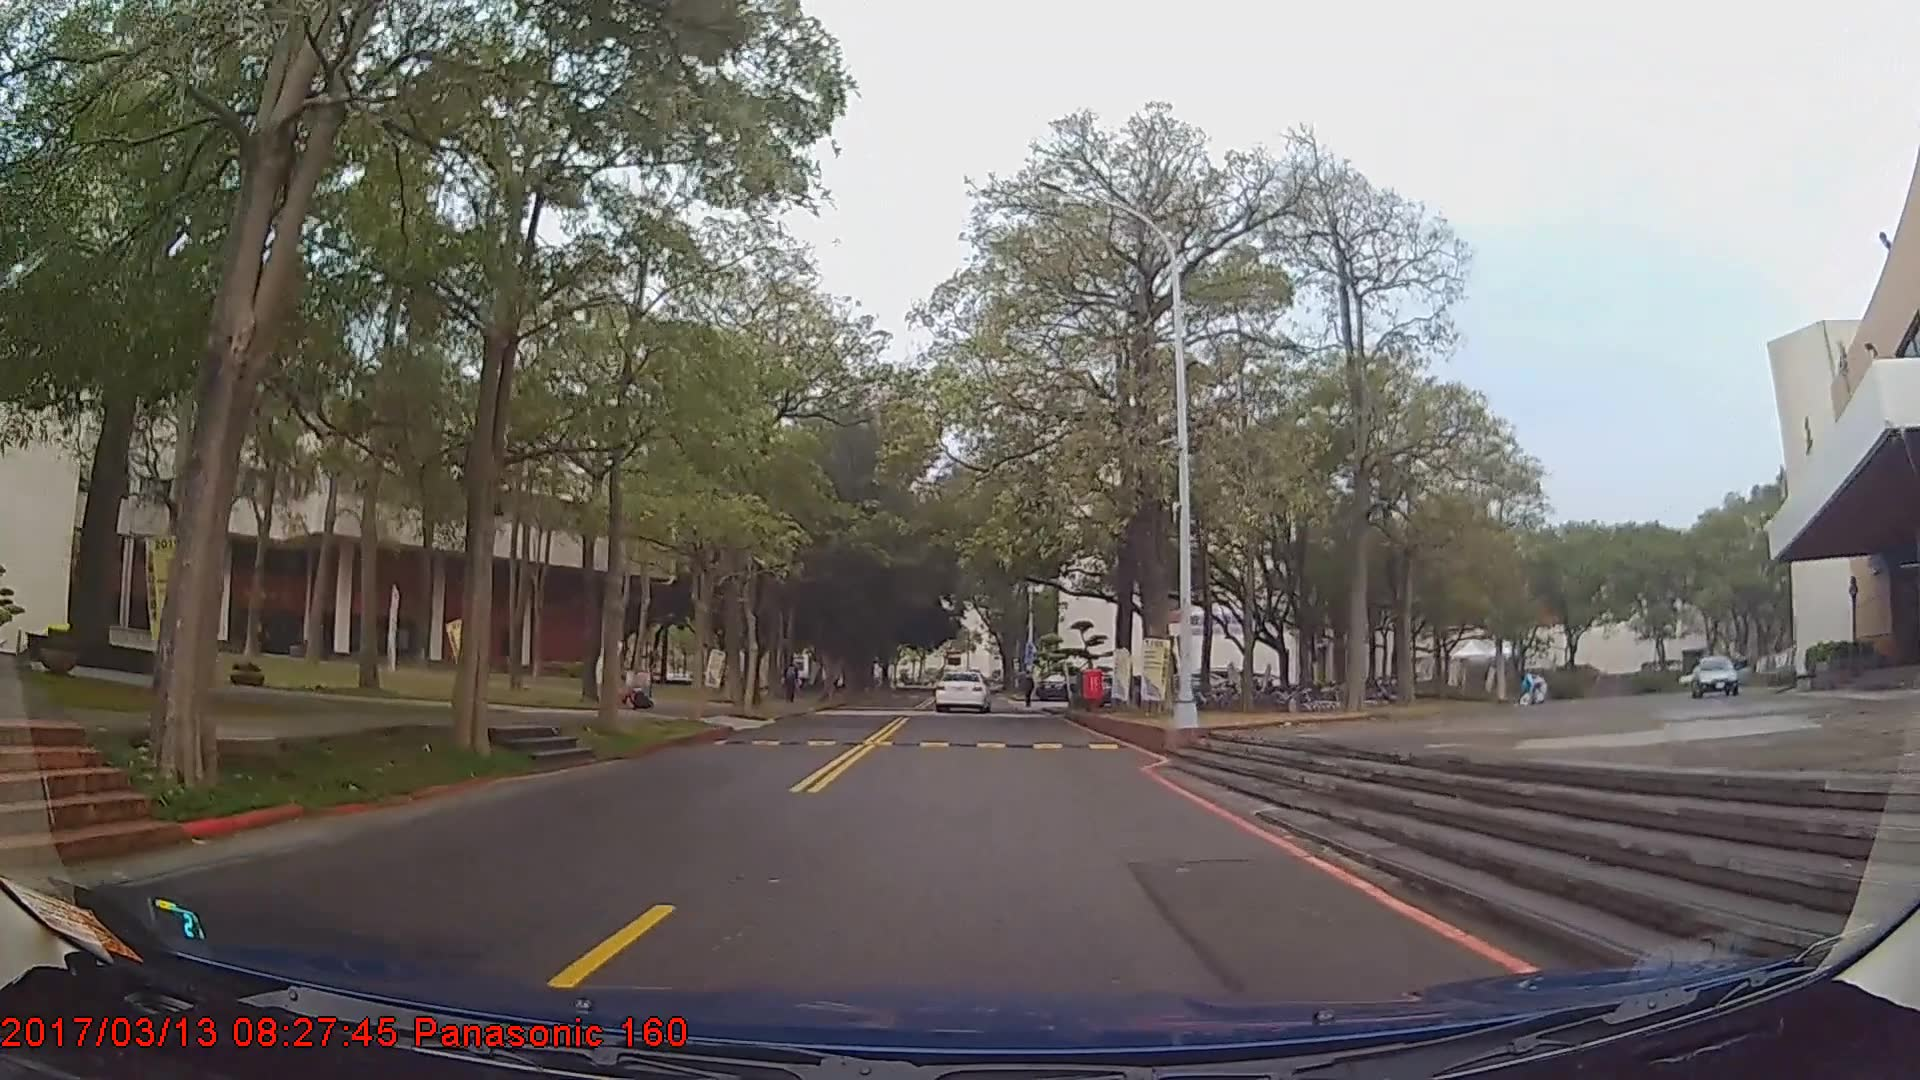vehicle: (1687, 651, 1755, 699), (934, 669, 989, 713)
